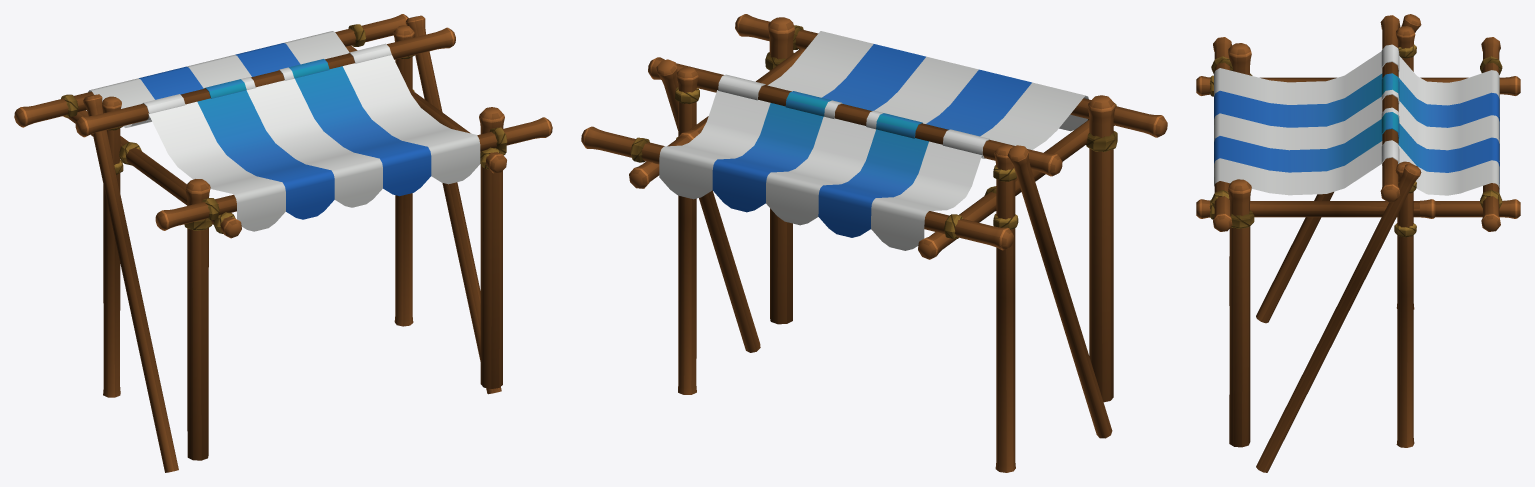
Rendered from Stall-2-3.fbx.
3 views of the same model, side by side, from view 1: azimuth 30°, elevation 25°; view 2: azimuth 150°, elevation 25°; view 3: azimuth 270°, elevation 25° (orthographic). The views are drawn at different scales.
Visible parts, largest first — view 1: Stall-2-3; view 2: Stall-2-3; view 3: Stall-2-3.
Boxes of the visible parts, bbox=[...] form: Stall-2-3: bbox=[14, 14, 552, 472]; Stall-2-3: bbox=[581, 14, 1167, 472]; Stall-2-3: bbox=[1196, 14, 1520, 472].
Size of the model in its own units: 544 by 429 by 411.
